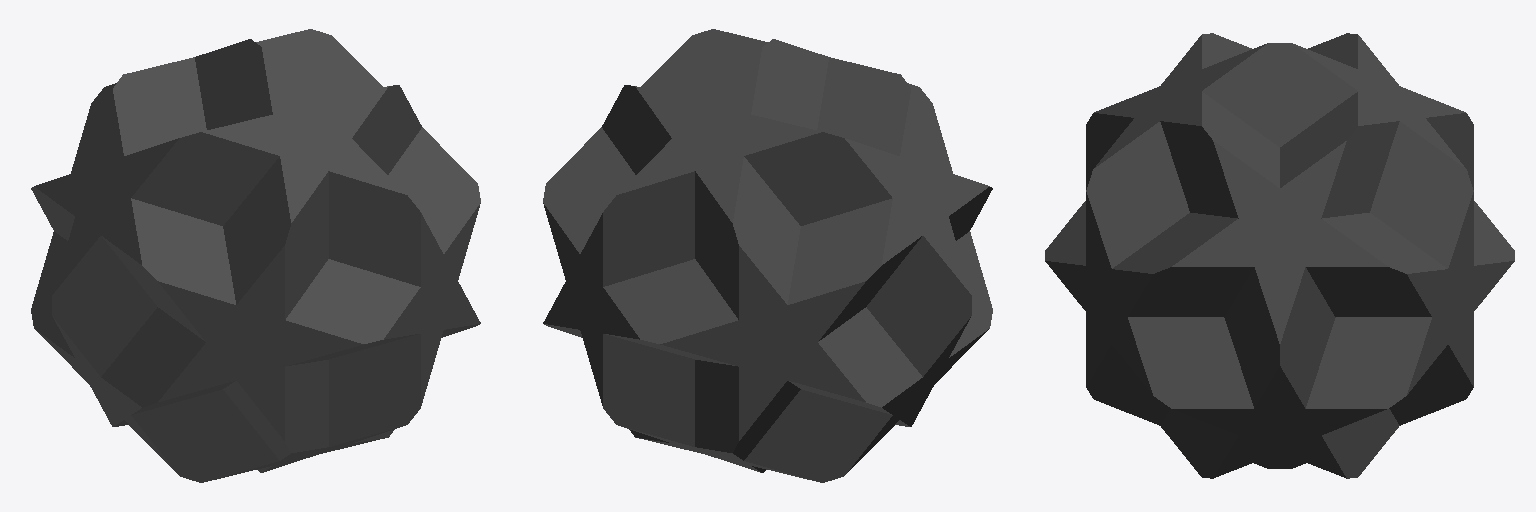
Rendered from meteorito2.obj.
3 views of the same model, side by side, from view 1: azimuth 30°, elevation 25°; view 2: azimuth 150°, elevation 25°; view 3: azimuth 270°, elevation 25° (orthographic).
Parts seen in each view (by area): view 1: Hedra001; view 2: Hedra001; view 3: Hedra001.
Part boxes in pixels (left/top/right/bottom): Hedra001: left=31, top=29, right=480, bottom=482; Hedra001: left=543, top=29, right=992, bottom=482; Hedra001: left=1045, top=33, right=1514, bottom=478.
Bounding box in the file's own units: 30.29 × 30.29 × 30.29.